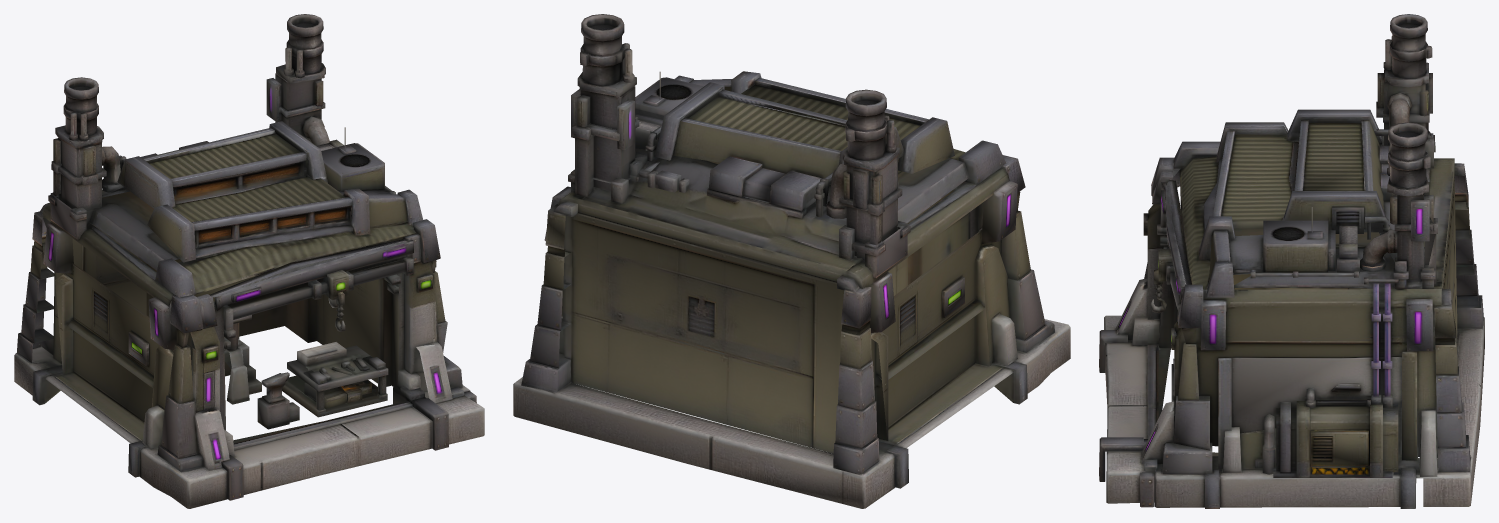
The model's file is forge_l04.glb.
The picture shows the model from 3 angles, left to right: view 1: azimuth 30°, elevation 25°; view 2: azimuth 150°, elevation 25°; view 3: azimuth 270°, elevation 25°; orthographic projection. The views are drawn at different scales.
Parts seen in each view (by area): view 1: tripo_node_1a487502-576e-4117-9bb3-6d59332cef44; view 2: tripo_node_1a487502-576e-4117-9bb3-6d59332cef44; view 3: tripo_node_1a487502-576e-4117-9bb3-6d59332cef44.
Part boxes in pixels (left/top/right/bottom): tripo_node_1a487502-576e-4117-9bb3-6d59332cef44: left=14, top=14, right=484, bottom=508; tripo_node_1a487502-576e-4117-9bb3-6d59332cef44: left=513, top=14, right=1070, bottom=508; tripo_node_1a487502-576e-4117-9bb3-6d59332cef44: left=1099, top=14, right=1484, bottom=508.
Size of the model in its own units: 0.9995 by 0.9644 by 0.9614.
Materials: 1 (1 with a texture image).
